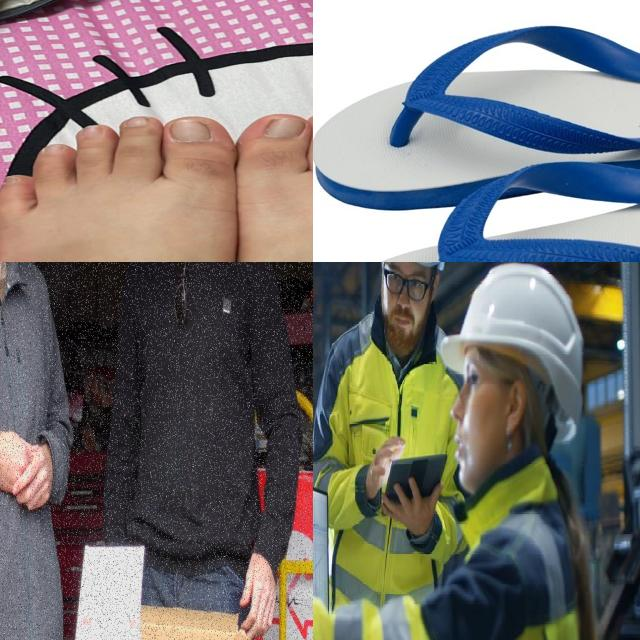Barefoots: (0, 110, 313, 262)
No_Ear-Protection: (504, 374, 529, 438)
Sandals: (313, 0, 640, 262)
face_nomask: (446, 344, 526, 493), (378, 262, 435, 355)
glasses: (383, 266, 428, 302)
hand_noglove: (378, 472, 444, 543), (364, 426, 401, 504)
head_helmet: (448, 262, 592, 439)
person: (415, 267, 593, 640), (313, 262, 456, 584)
vest: (338, 482, 592, 640), (319, 317, 459, 591)
